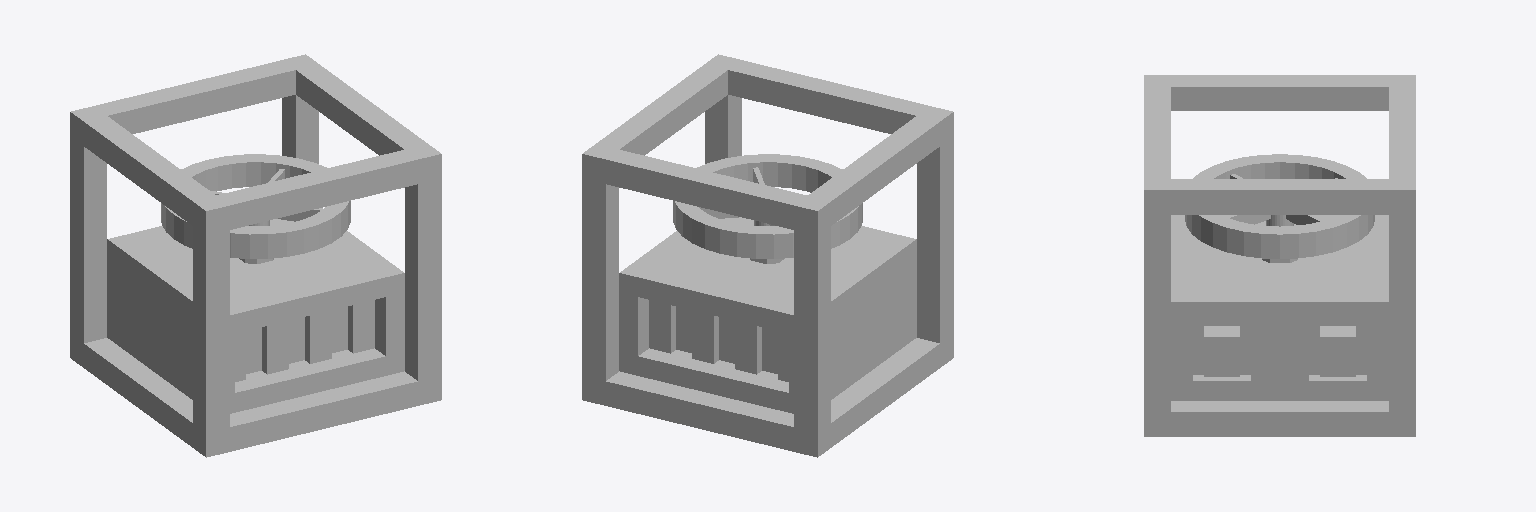
The model's file is SeatController.obj.
The picture shows the model from 3 angles: view 1: azimuth 30°, elevation 25°; view 2: azimuth 150°, elevation 25°; view 3: azimuth 270°, elevation 25°; orthographic projection.
Visible parts, largest first — view 1: Cube; view 2: Cube; view 3: Cube.
Part boxes in pixels (x1,y1,x2,y2): Cube: (70, 54, 441, 457); Cube: (582, 54, 953, 457); Cube: (1144, 75, 1415, 436).
Bounding box in the file's own units: 1 × 1 × 1.